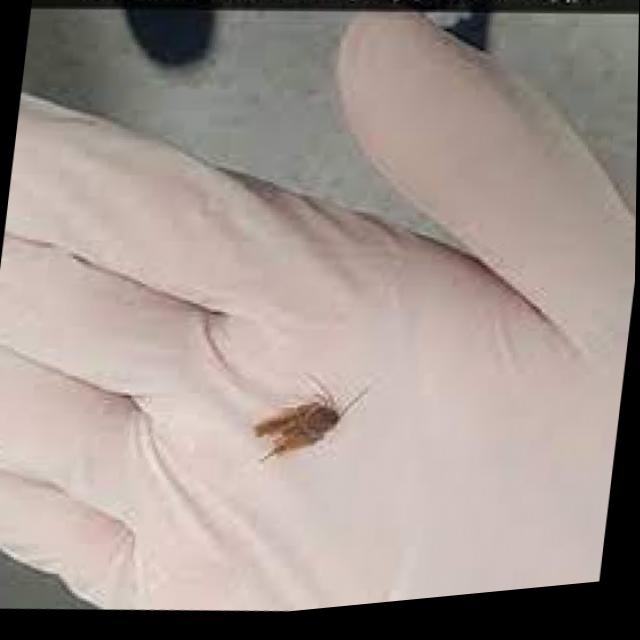Cockroach: (234, 363, 386, 490)
